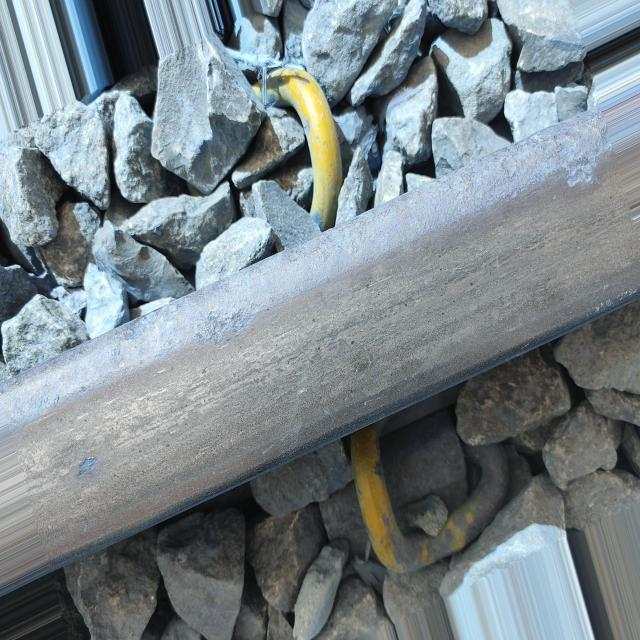Good Fasteners: (318, 409, 517, 573), (269, 68, 343, 230)
